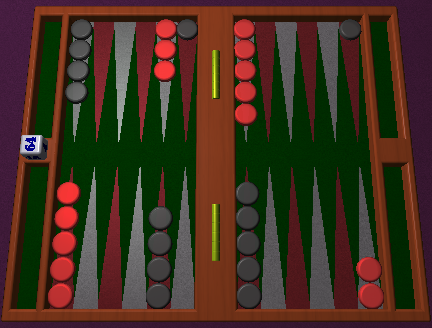checker: (358, 282, 384, 307), (356, 256, 382, 281), (56, 181, 80, 205), (53, 205, 77, 229), (51, 230, 75, 254), (50, 256, 74, 280), (48, 283, 72, 307), (147, 230, 171, 254), (147, 257, 171, 281), (146, 283, 170, 307), (235, 180, 259, 204), (235, 205, 259, 229), (236, 231, 260, 255), (236, 257, 260, 281), (237, 284, 261, 308), (338, 16, 362, 39), (233, 101, 257, 124), (234, 79, 258, 102), (149, 207, 172, 229), (177, 18, 198, 40), (234, 59, 256, 80), (233, 38, 255, 59), (233, 18, 255, 39), (153, 59, 175, 80), (154, 39, 176, 60), (155, 18, 177, 39), (65, 80, 87, 101), (66, 59, 88, 80), (68, 38, 90, 59), (70, 17, 92, 38)
